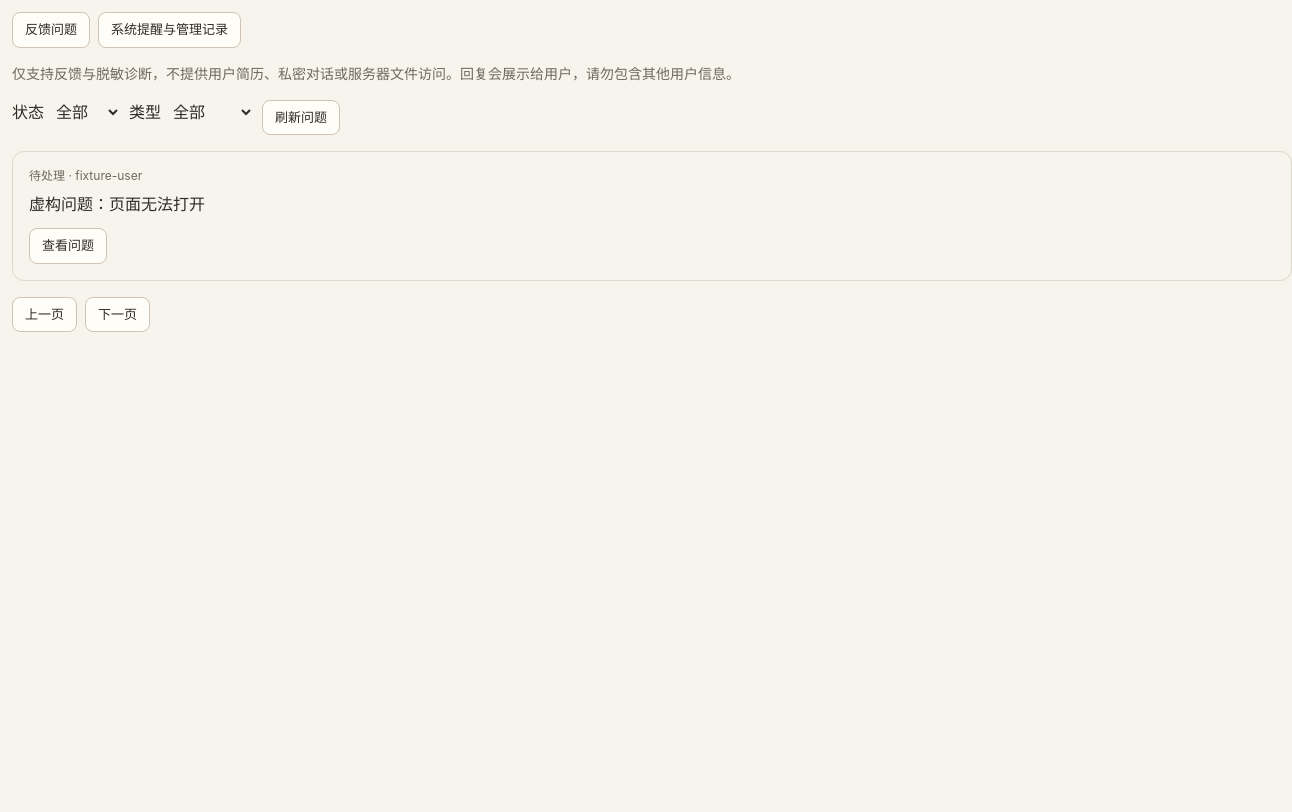
Test: loads a support issue and submits the administrator's explicit reply
Click the button "查看问题": (68, 246) [29,228,107,264]
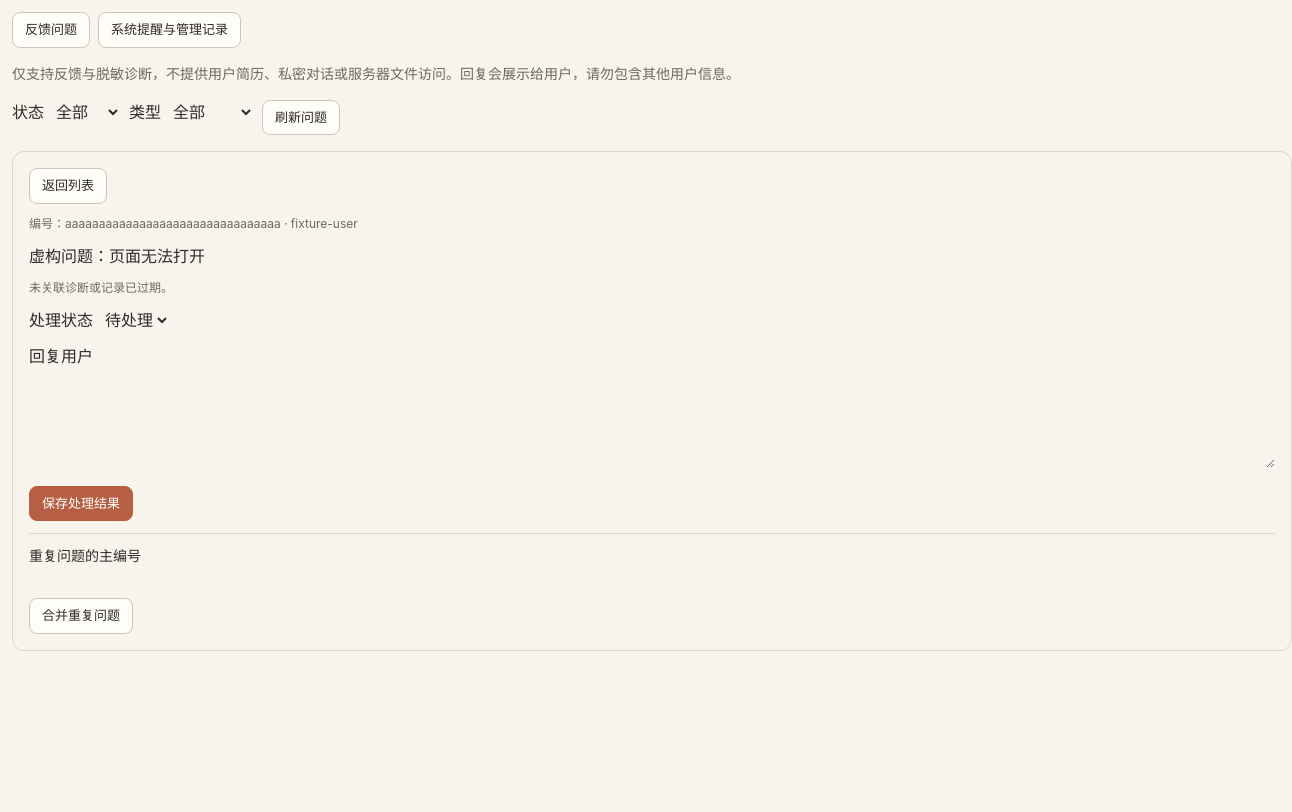
Select "已修复" in the dropdown labelled "处理状态": (136, 320) [101,308,170,330]
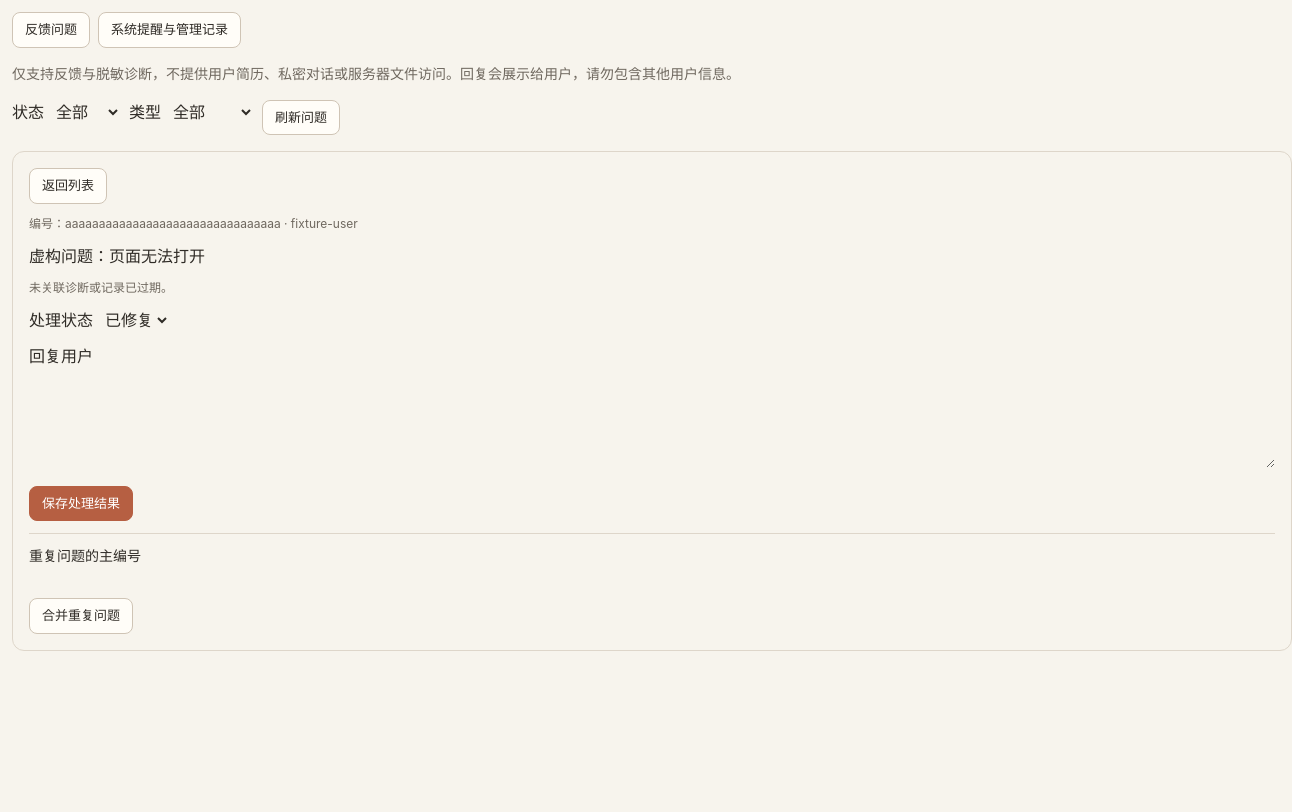
In the text box labelled "回复用户": (652, 420) [29,372,1275,468], type "虚构回复：请刷新重试"
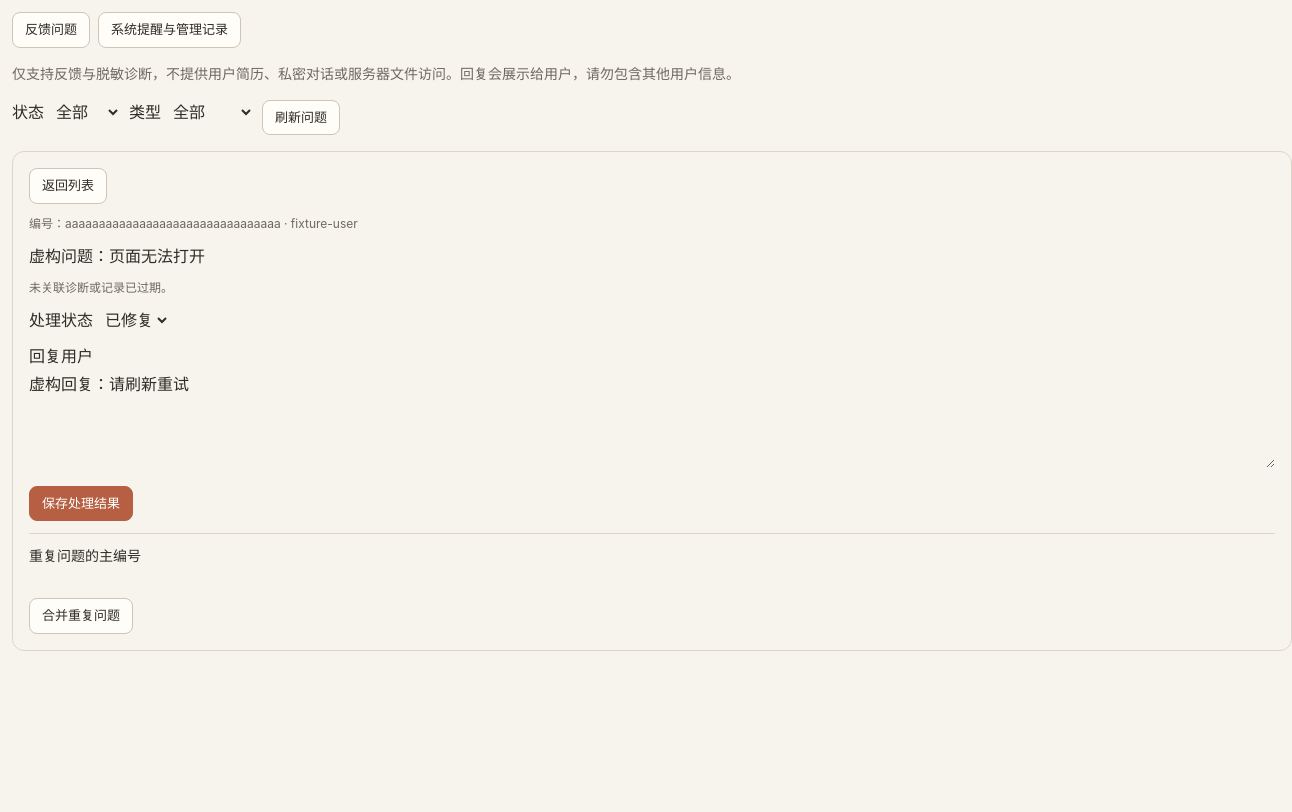
Click the button "保存处理结果": (81, 503) [29,486,133,521]
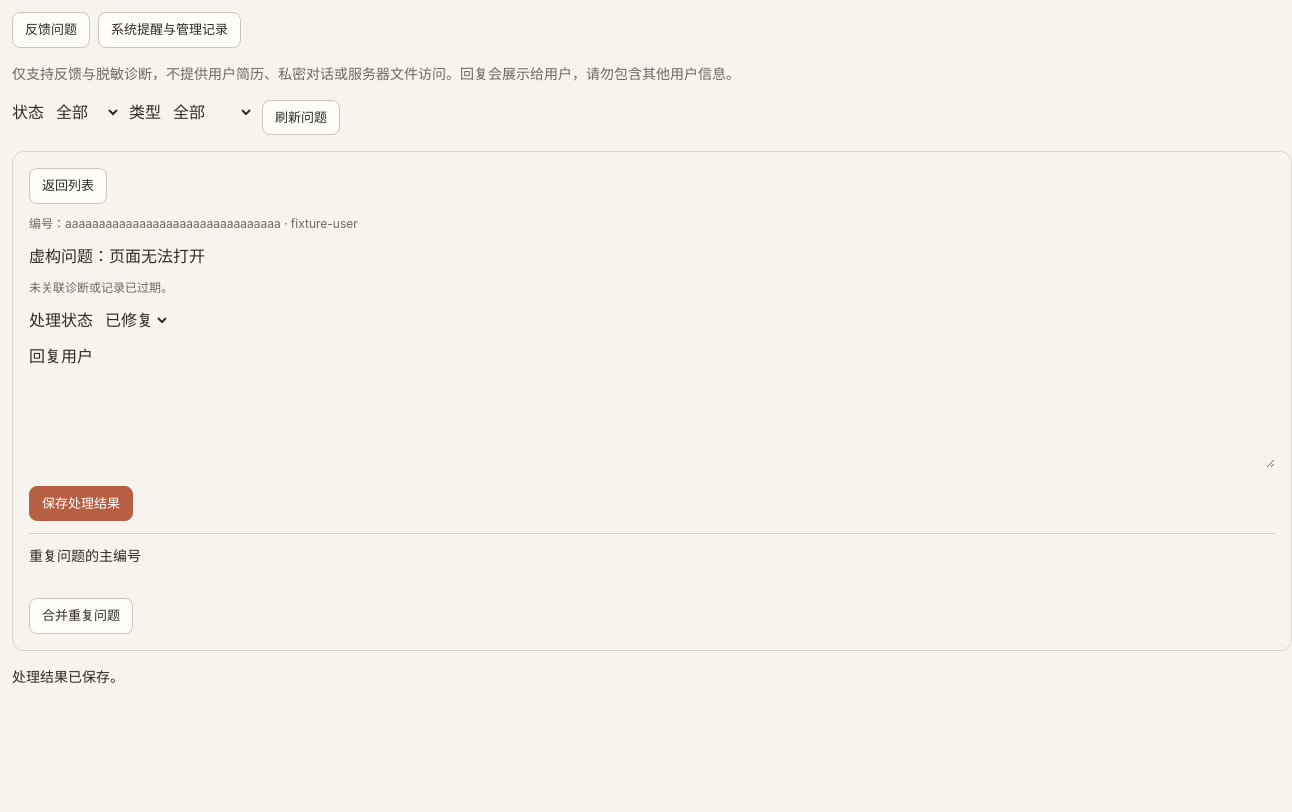
Expected: the text "fixture-user" is shown, [291,216,358,230]
Expected: the text "处理结果已保存。" is shown, [12,668,124,684]
